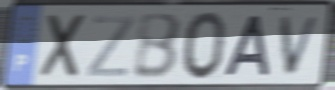A: (221, 13, 273, 79)
B: (132, 11, 183, 81)
O: (181, 9, 229, 82)
V: (278, 14, 324, 78)
X: (39, 12, 90, 82)
Z: (84, 14, 137, 80)
